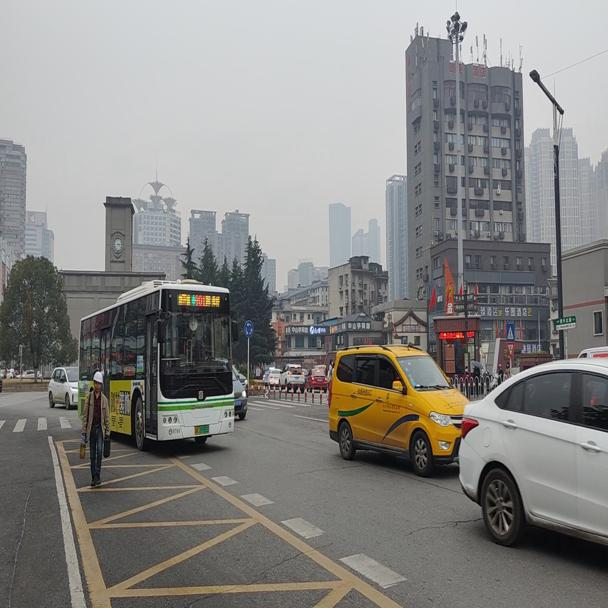bus: (76, 277, 235, 451)
screen: (195, 293, 205, 306)
